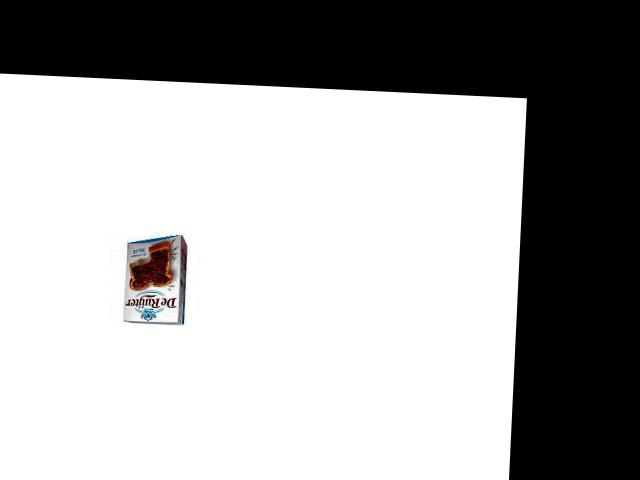chocolate: (114, 234, 196, 330)
